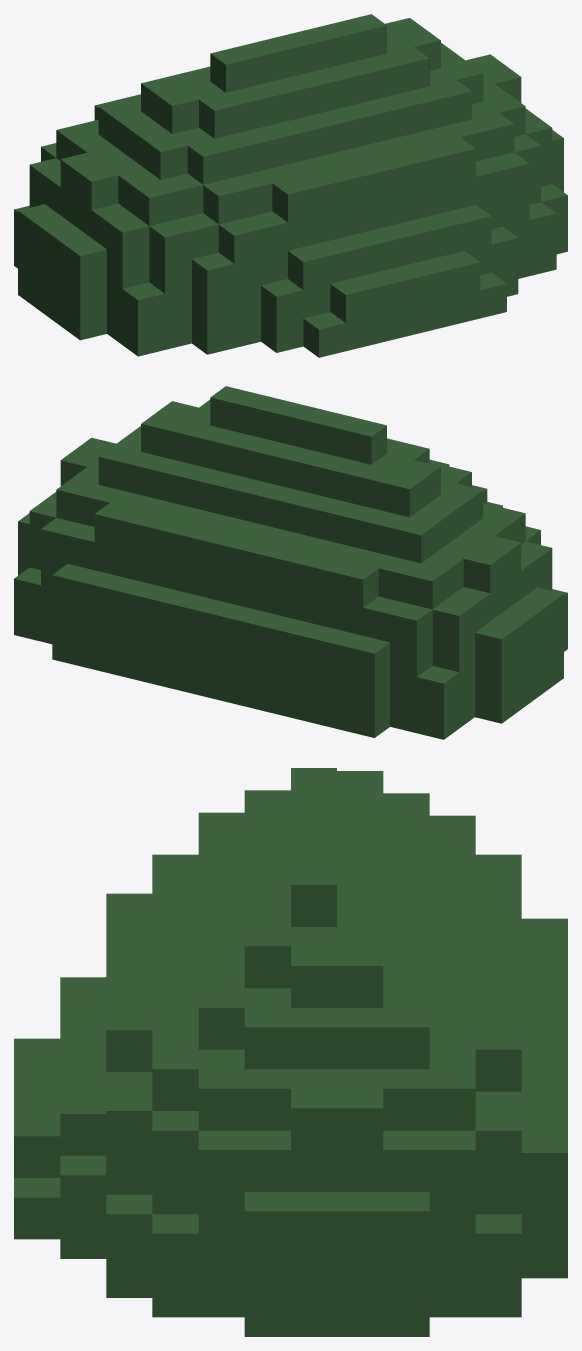
Rendered from BushBare.obj.
The picture shows the model from 3 angles, top to bottom: view 1: azimuth 30°, elevation 25°; view 2: azimuth 150°, elevation 25°; view 3: azimuth 270°, elevation 25°; orthographic projection. The views are drawn at different scales.
Size of the model in its own units: 18 by 8 by 12.
1 material, 1 textured.
